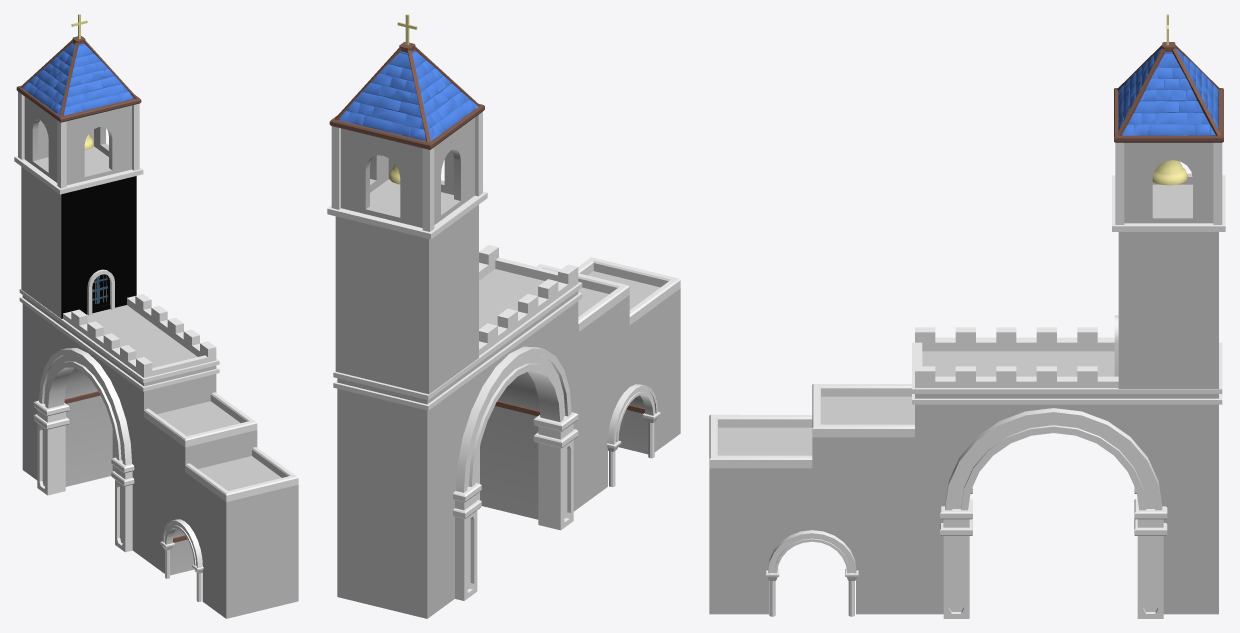
File: tower_gates.FBX
3 views of the same model, side by side, from view 1: azimuth 30°, elevation 25°; view 2: azimuth 150°, elevation 25°; view 3: azimuth 270°, elevation 25° (orthographic). The views are drawn at different scales.
Parts seen in each view (by area): view 1: tower_gates_LOD0; view 2: tower_gates_LOD0; view 3: tower_gates_LOD0.
Part boxes in pixels (x1,y1,x2,y2): tower_gates_LOD0: (14, 14, 298, 618); tower_gates_LOD0: (327, 14, 680, 618); tower_gates_LOD0: (709, 14, 1225, 618).
Size of what is drawn, in the model's own units: 645 by 3097 by 2508.
